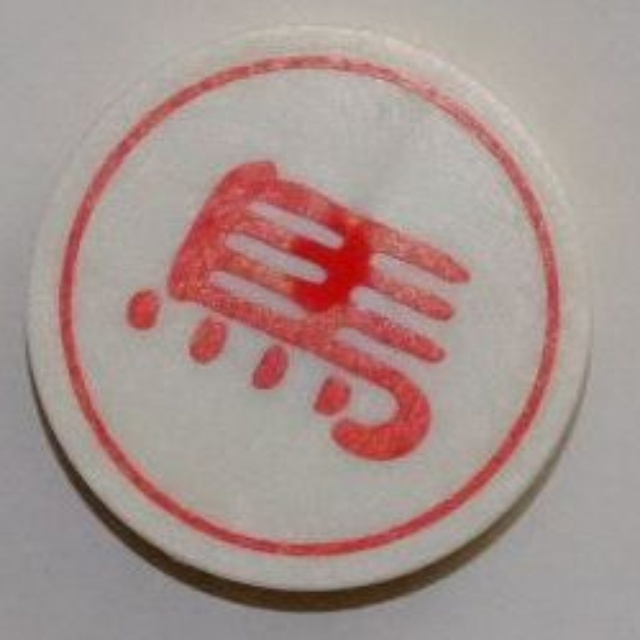red_ma: (22, 23, 614, 601)
